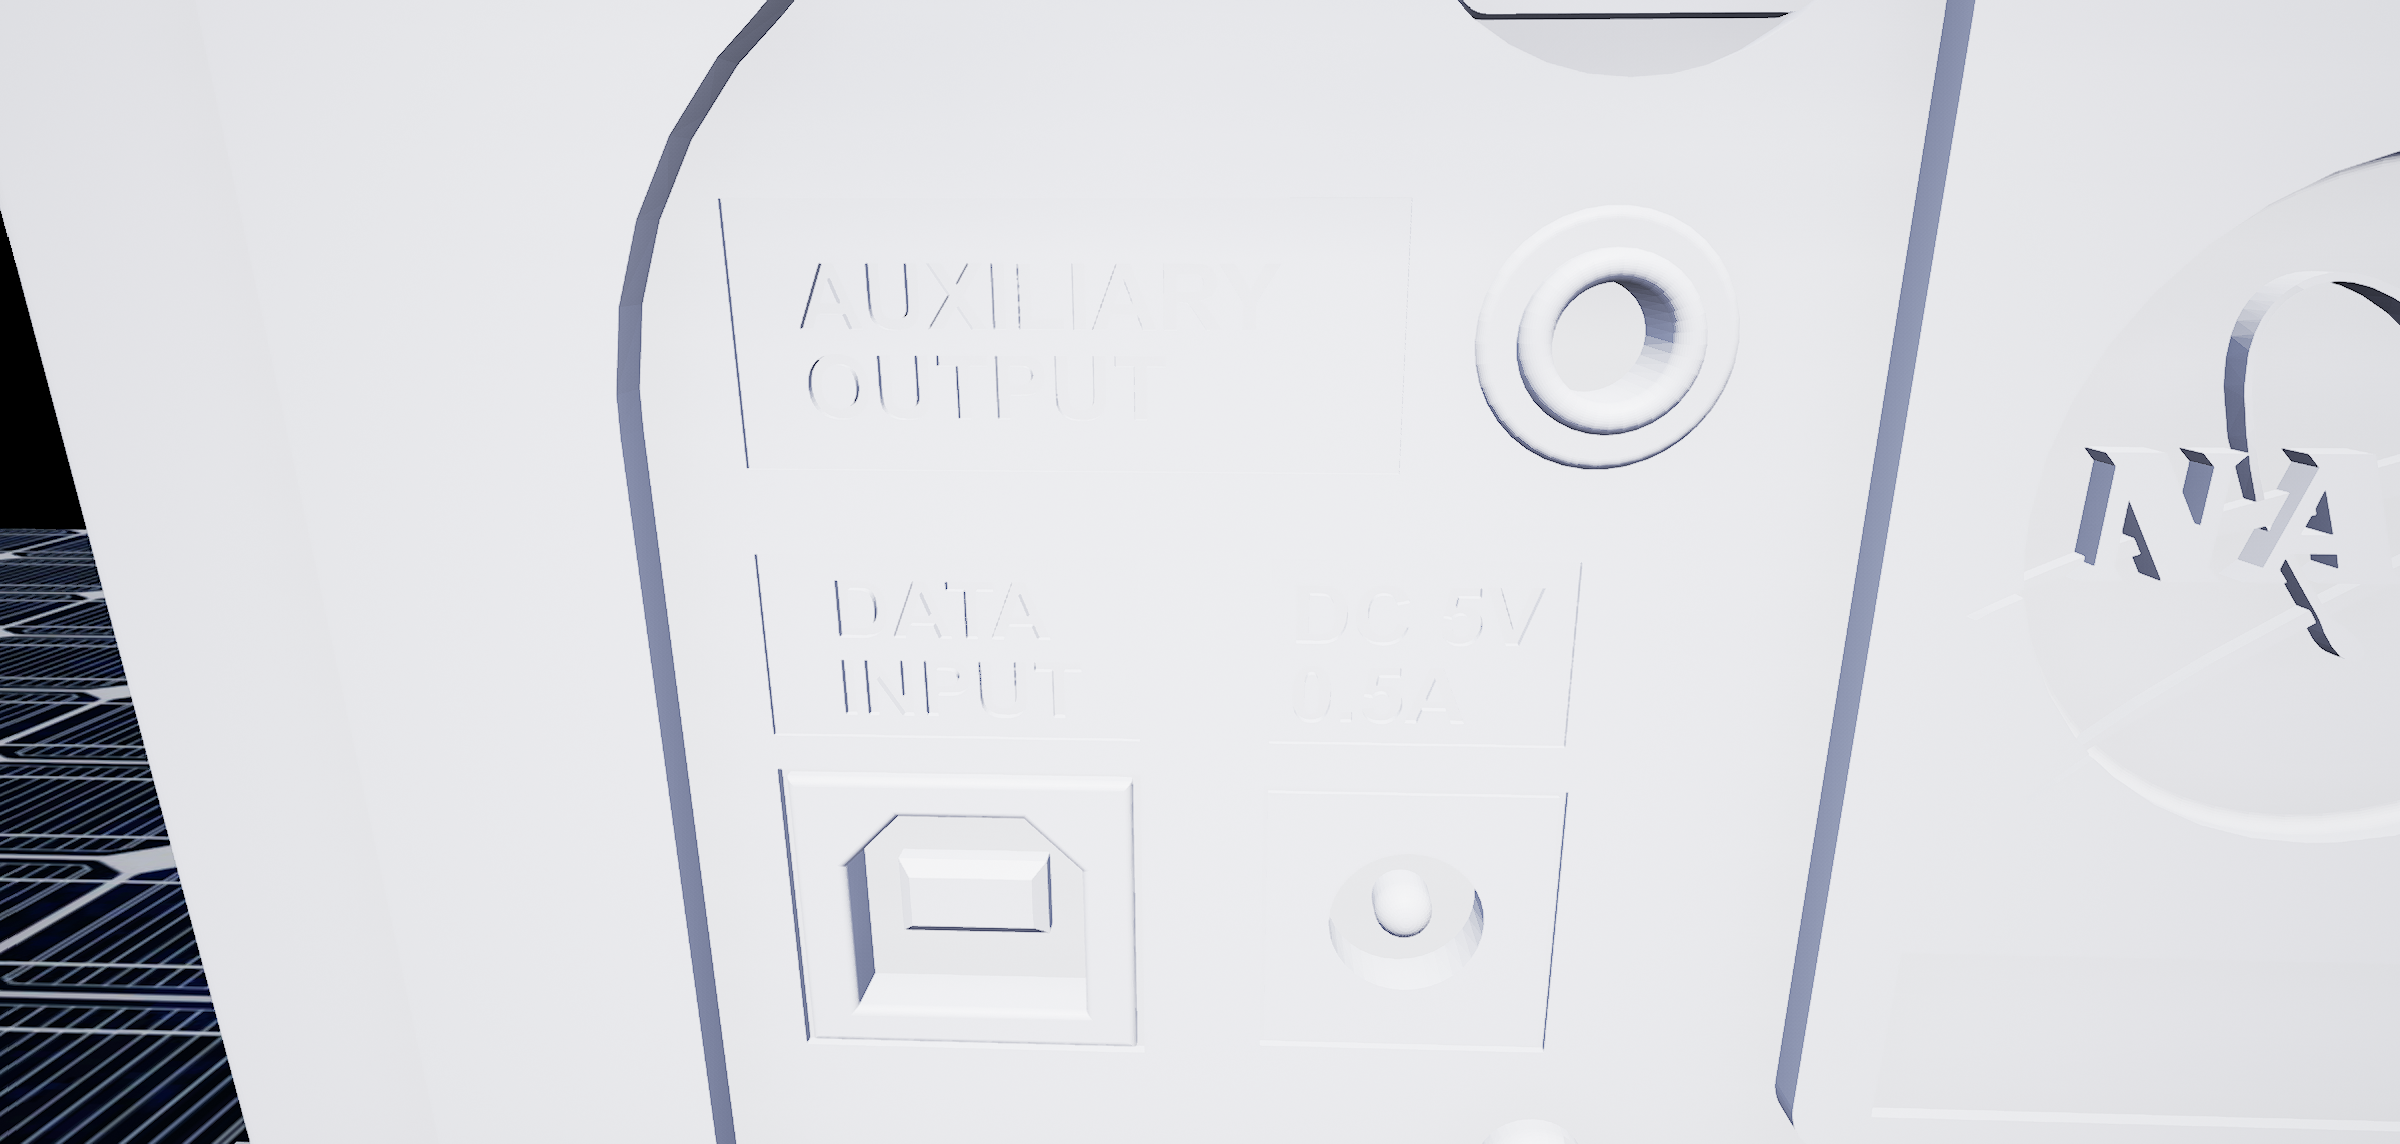aux: (1453, 205, 1743, 481)
dc: (1303, 838, 1517, 1012)
usb: (823, 796, 1107, 1035)
